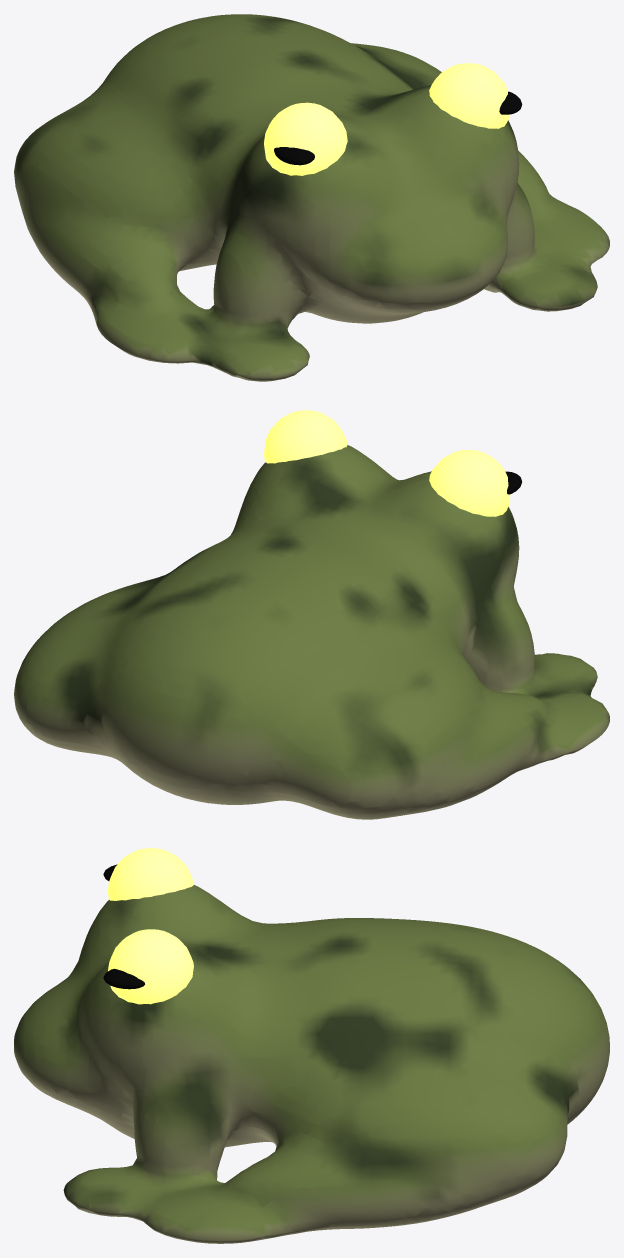
The model's file is frog.glb.
3 views of the same model, one above another, from view 1: azimuth 30°, elevation 25°; view 2: azimuth 150°, elevation 25°; view 3: azimuth 270°, elevation 25° (orthographic). The views are drawn at different scales.
Parts seen in each view (by area): view 1: Frog, Eye-1, Eye1, Pupil-1; view 2: Frog, Eye-1, Eye1; view 3: Frog, Eye1, Eye-1, Pupil1.
Part boxes in pixels (box(x1,y1,x2,y2)): Frog: box(14, 14, 609, 381); Eye-1: box(264, 102, 347, 175); Eye1: box(429, 63, 509, 128); Pupil-1: box(274, 147, 314, 165); Frog: box(14, 445, 609, 819); Eye-1: box(429, 450, 510, 516); Eye1: box(264, 410, 347, 463); Frog: box(14, 885, 609, 1243); Eye1: box(108, 929, 193, 1004); Eye-1: box(107, 848, 193, 900); Pupil1: box(103, 968, 144, 989).
Size of the model in its own units: 2.64 by 1.26 by 2.73.
